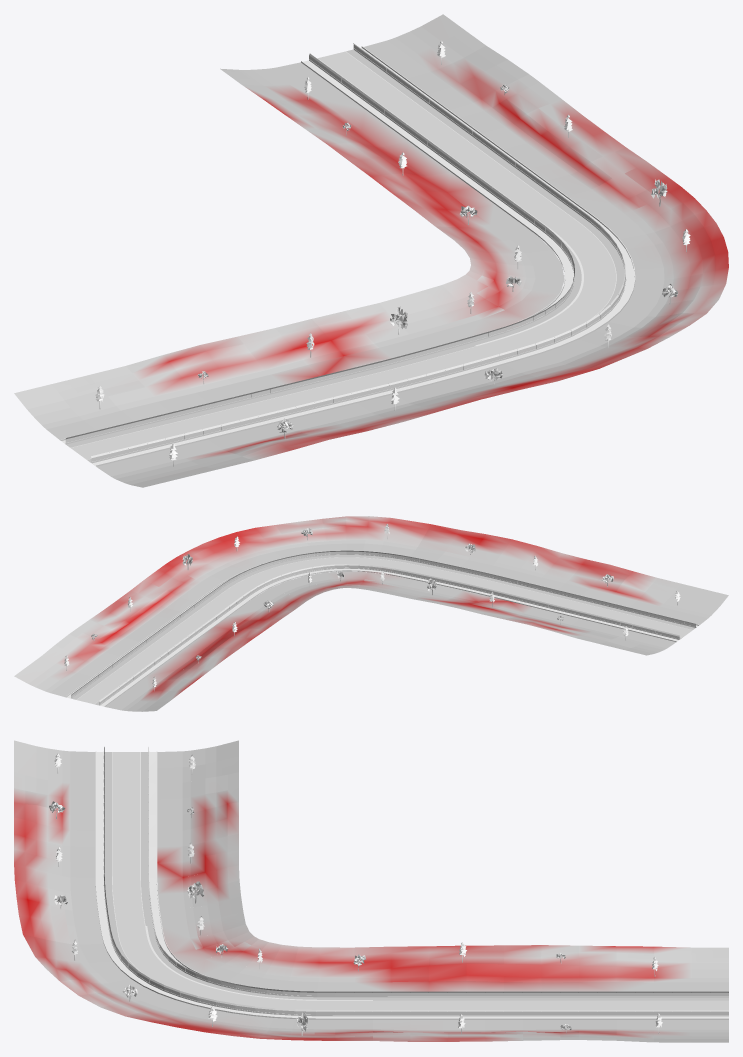
3 renders of one model, top to bottom at view 1: azimuth 30°, elevation 25°; view 2: azimuth 150°, elevation 25°; view 3: azimuth 270°, elevation 25°, orthographic. The views are drawn at different scales.
Parts seen in each view (by area): view 1: Grass, Road, Track, Wirefence, Trees; view 2: Grass, Road, Track, Wirefence, Trees; view 3: Grass, Road, Track, Wirefence, Trees.
Boxes of the visible parts, box(x1,y1,x2,y2) form: Grass: box(14, 14, 728, 487); Road: box(71, 51, 615, 459); Track: box(60, 43, 635, 466); Wirefence: box(65, 43, 625, 461); Trees: box(95, 41, 690, 466); Grass: box(14, 516, 728, 711); Road: box(77, 557, 692, 704); Track: box(66, 551, 698, 706); Wirefence: box(71, 550, 695, 704); Trees: box(64, 524, 680, 690); Grass: box(14, 740, 728, 1042); Road: box(112, 752, 728, 1009); Track: box(95, 751, 728, 1019); Wirefence: box(104, 747, 728, 1014); Trees: box(49, 754, 662, 1035).
Size of what is drawn, in the model's own units: 44500 by 2148 by 44500.
